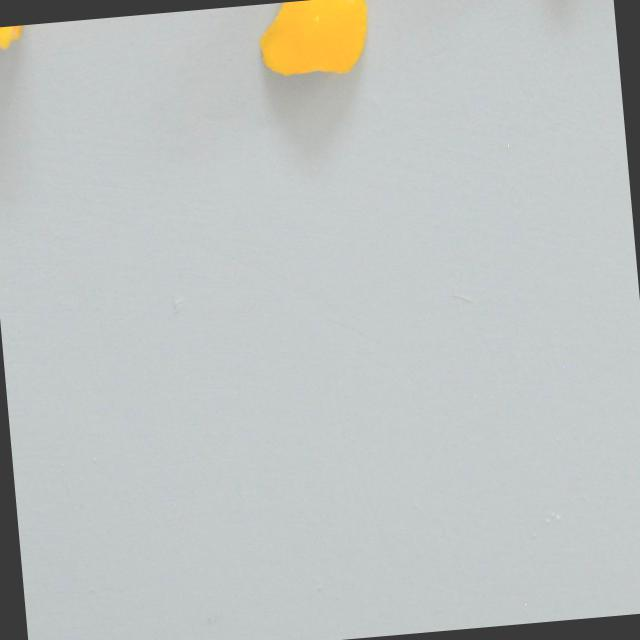dañado: (252, 0, 379, 85), (0, 24, 35, 53)
